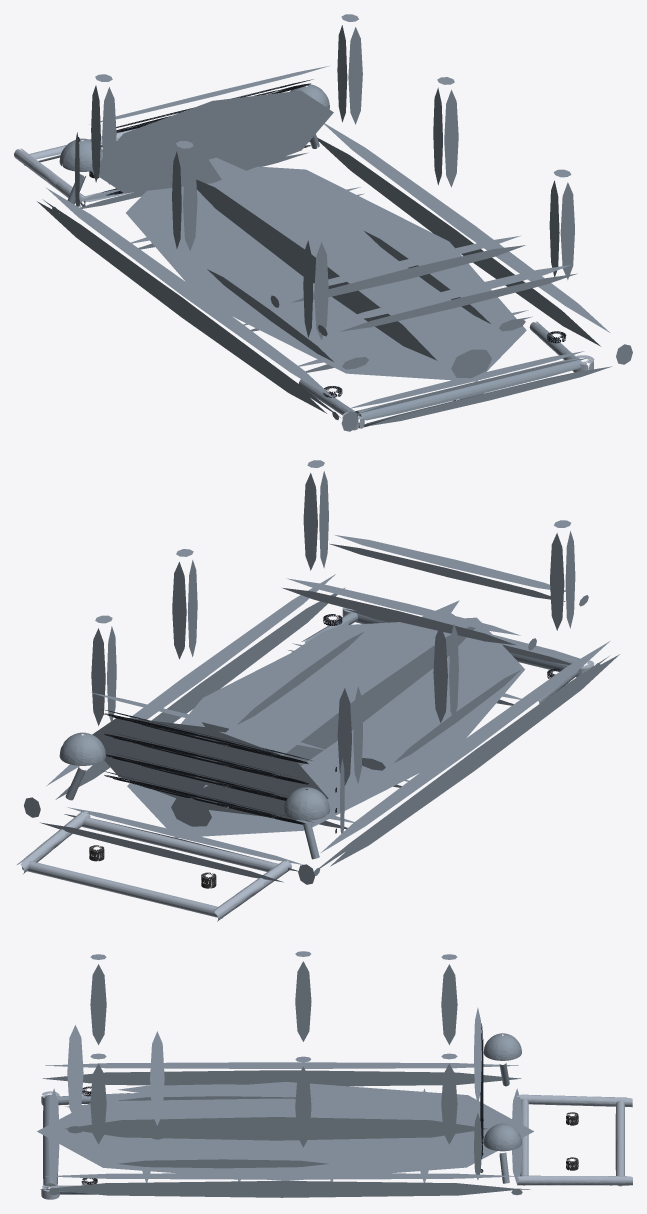
The model's file is hatchback_chassis_01.glb.
The picture shows the model from 3 angles, top to bottom: view 1: azimuth 30°, elevation 25°; view 2: azimuth 150°, elevation 25°; view 3: azimuth 270°, elevation 25°; orthographic projection. The views are drawn at different scales.
Visible parts, largest first — view 1: AntiRoll_Bar_Bracket_Plate, Cradle_Front_Crossmember, Coil_Spring_Seat_RL; view 2: AntiRoll_Bar_Bracket_Plate, Cradle_Front_Crossmember, Coil_Spring_Seat_RL; view 3: AntiRoll_Bar_Bracket_Plate, Cradle_Front_Crossmember, Coil_Spring_Seat_RL.
Boxes of the visible parts, x1=… form: AntiRoll_Bar_Bracket_Plate: x1=37, y1=14, x2=632, y2=431; Cradle_Front_Crossmember: x1=14, y1=128, x2=594, y2=430; Coil_Spring_Seat_RL: x1=78, y1=79, x2=566, y2=397; AntiRoll_Bar_Bracket_Plate: x1=24, y1=460, x2=619, y2=884; Cradle_Front_Crossmember: x1=17, y1=607, x2=594, y2=921; Coil_Spring_Seat_RL: x1=102, y1=614, x2=561, y2=833; AntiRoll_Bar_Bracket_Plate: x1=37, y1=951, x2=533, y2=1197; Cradle_Front_Crossmember: x1=41, y1=1091, x2=632, y2=1199; Coil_Spring_Seat_RL: x1=81, y1=1023, x2=483, y2=1184.
Bounding box in the file's own units: 1.57 × 0.9016 × 3.48.
